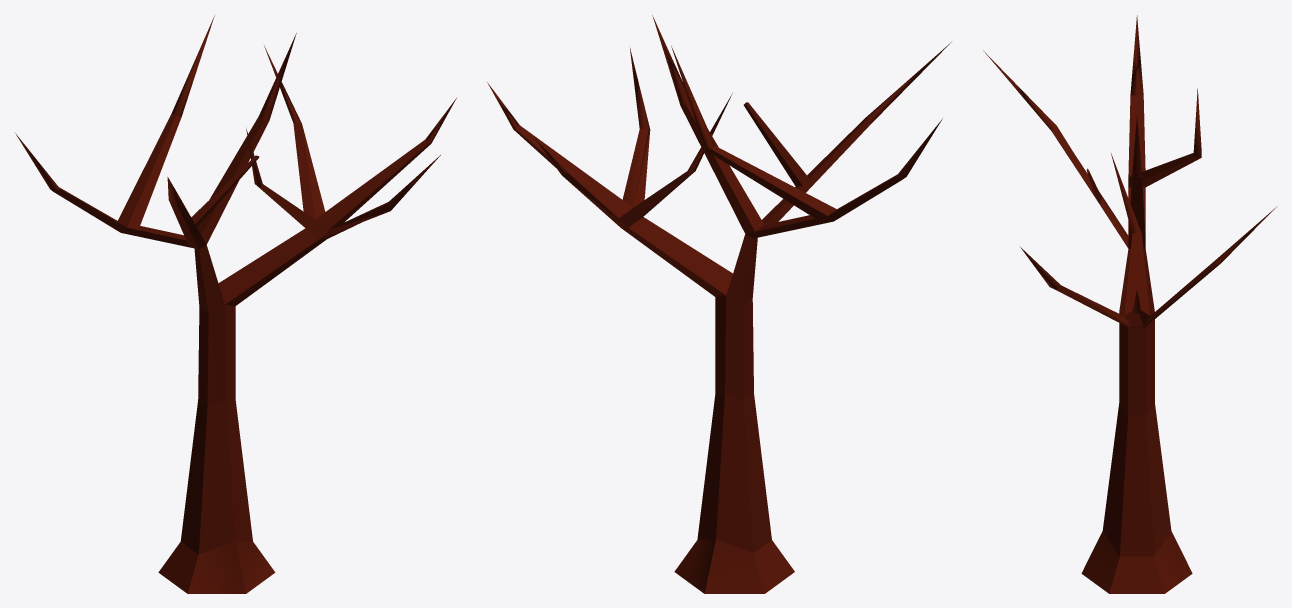
The model's file is LowPolyTree_wilted.obj.
3 renders of one model, left to right at view 1: azimuth 30°, elevation 25°; view 2: azimuth 150°, elevation 25°; view 3: azimuth 270°, elevation 25°, orthographic. The views are drawn at different scales.
Parts seen in each view (by area): view 1: 柱体; view 2: 柱体; view 3: 柱体.
Part boxes in pixels (x1,y1,x2,y2): 柱体: (15,15,456,593); 柱体: (487,15,951,593); 柱体: (983,15,1277,593).
Bounding box in the file's own units: 8.74 × 9.95 × 5.31.
